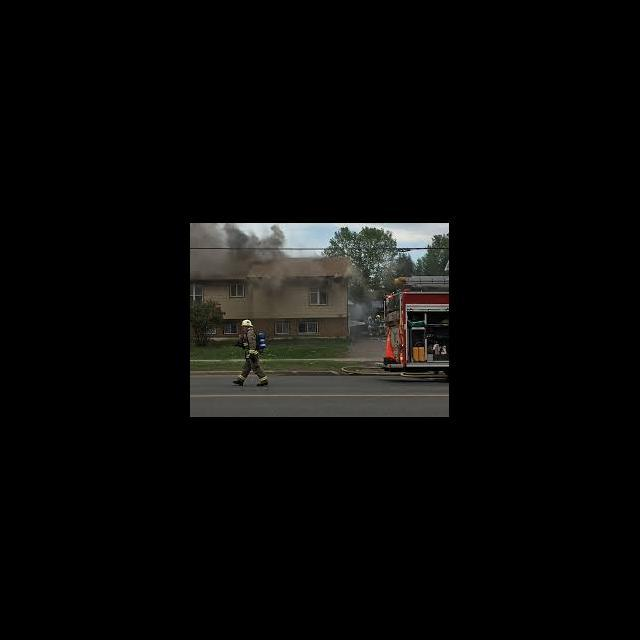Smoke: (192, 224, 292, 296), (347, 278, 370, 338)
